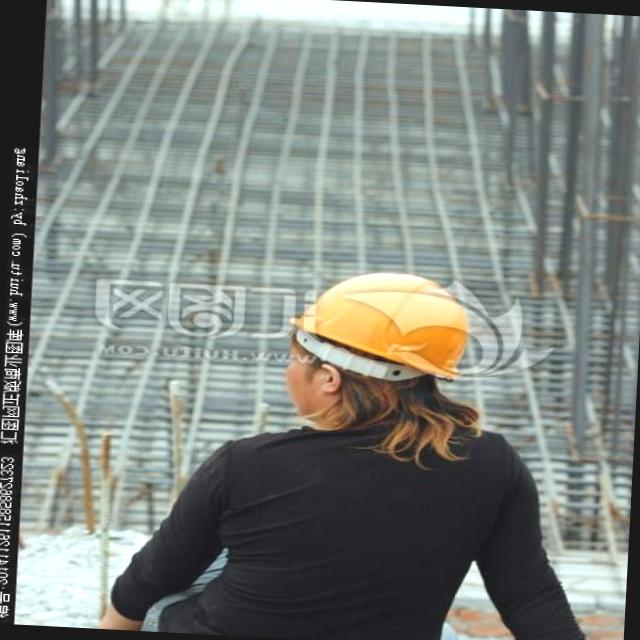helmet: (282, 266, 478, 374)
no-vest: (202, 401, 530, 640)
